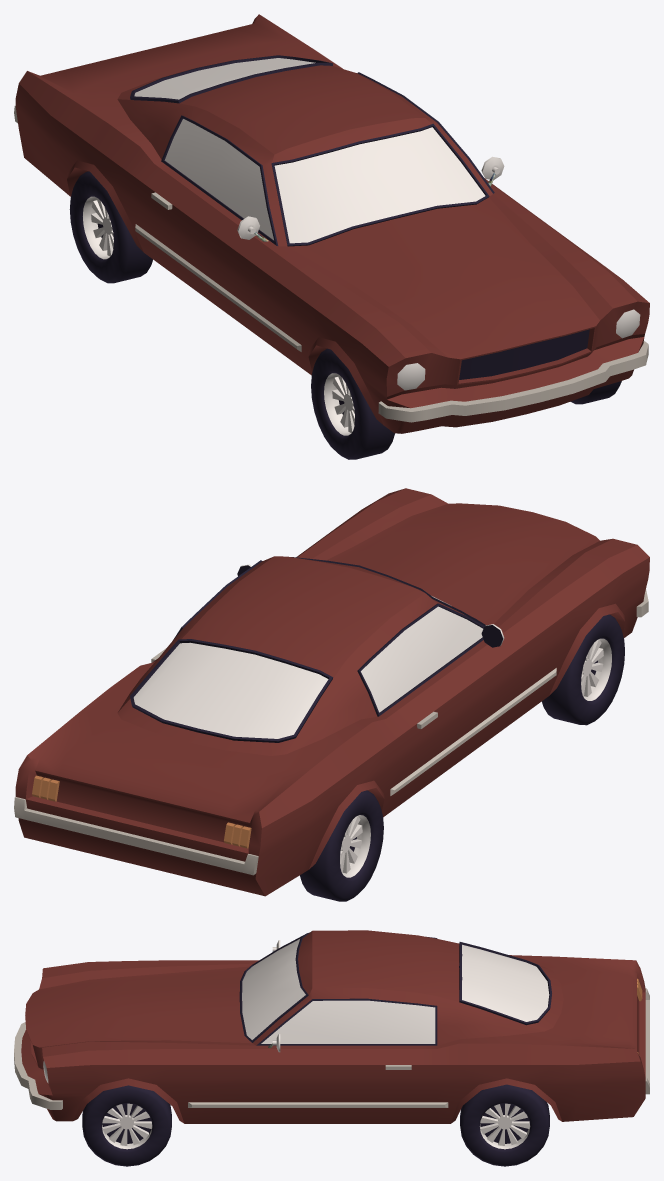
Rendered from car 9.fbx.
The picture shows the model from 3 angles, top to bottom: view 1: azimuth 30°, elevation 25°; view 2: azimuth 150°, elevation 25°; view 3: azimuth 270°, elevation 25°; orthographic projection. The views are drawn at different scales.
Visible parts, largest first — view 1: car 17; view 2: car 17; view 3: car 17.
Boxes of the visible parts, x1,y1,x2,y2 form: car 17: [14, 14, 649, 459]; car 17: [14, 488, 649, 901]; car 17: [14, 930, 649, 1166].
Size of the model in its own units: 263 by 194 by 681.
